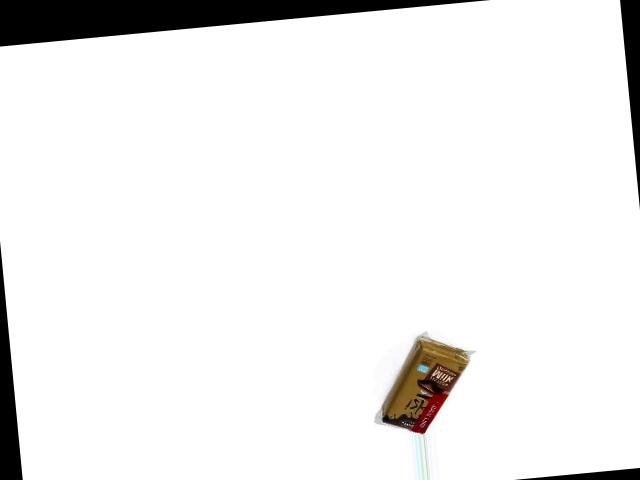chocolate: (372, 331, 486, 436)
